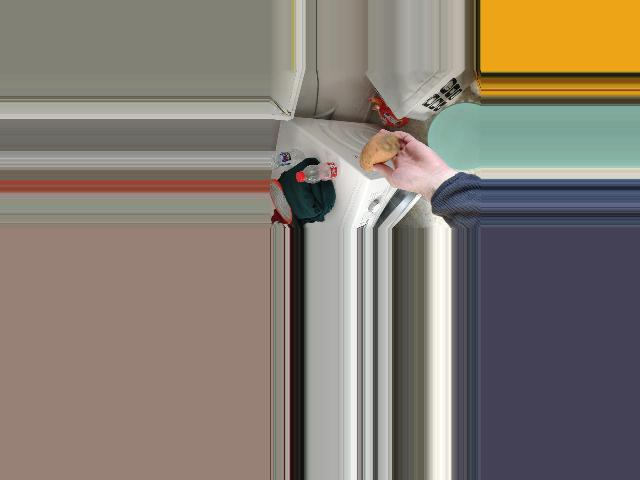sweet_potato: (359, 136, 404, 175)
